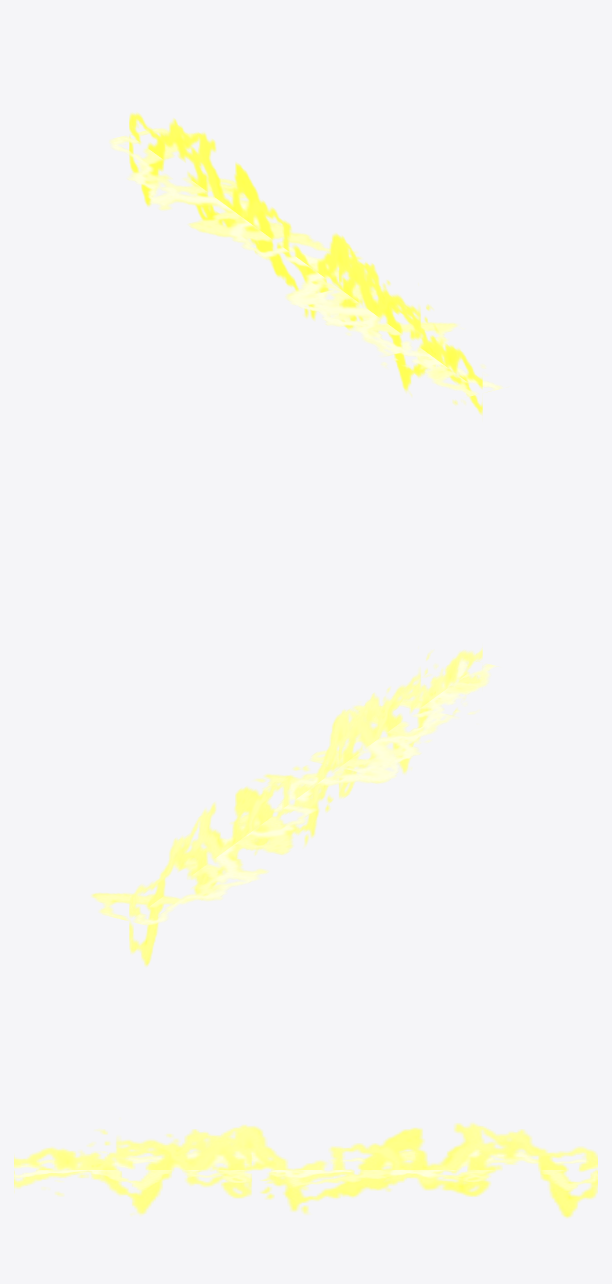
The picture shows the model from 3 angles, top to bottom: view 1: azimuth 30°, elevation 25°; view 2: azimuth 150°, elevation 25°; view 3: azimuth 270°, elevation 25°; orthographic projection. The views are drawn at different scales.
Visible parts, largest first — view 1: Plane.001_0; view 2: Plane.001_0; view 3: Plane.001_0.
Boxes of the visible parts, x1,y1,x2,y2 form: Plane.001_0: (109,113,502,414); Plane.001_0: (91,648,497,965); Plane.001_0: (14,1123,597,1217).
Size of the model in its own units: 2 by 2 by 5.32.
1 material, 1 textured.
